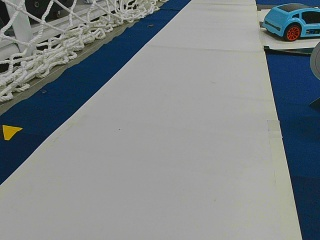car: (262, 4, 319, 41)
